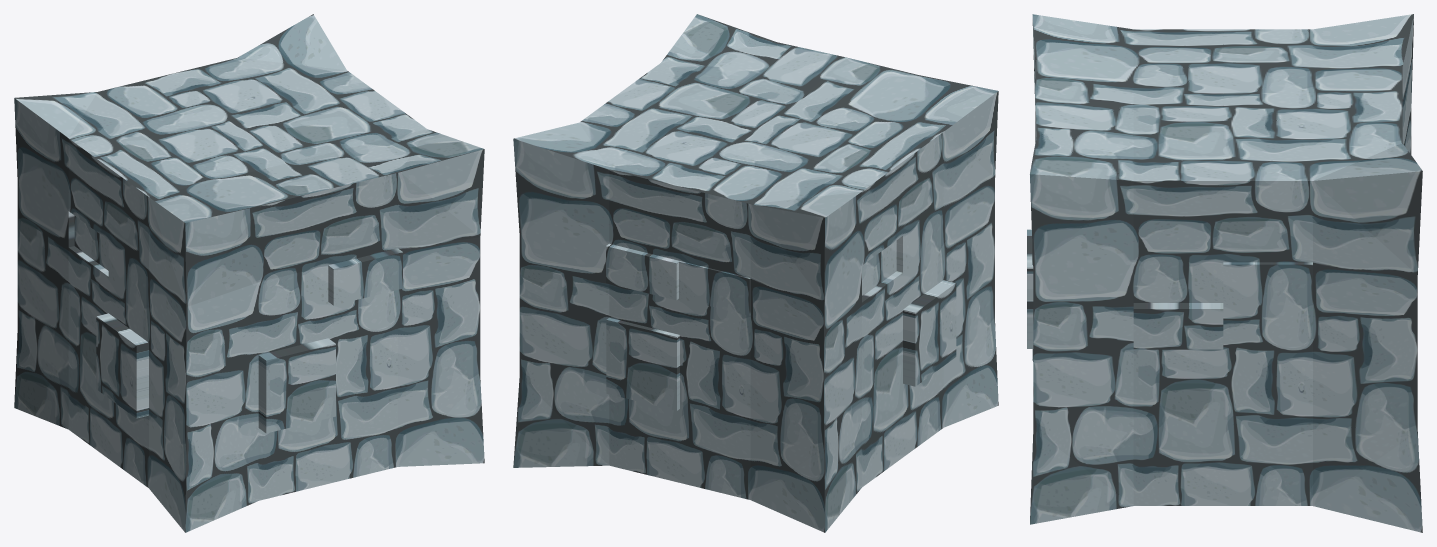
File: Wall.dae
The picture shows the model from 3 angles, left to right: view 1: azimuth 30°, elevation 25°; view 2: azimuth 150°, elevation 25°; view 3: azimuth 270°, elevation 25°; orthographic projection. The views are drawn at different scales.
Parts seen in each view (by area): view 1: Cube; view 2: Cube; view 3: Cube.
Part boxes in pixels (x1,y1,x2,y2): Cube: [14, 14, 484, 532]; Cube: [513, 14, 998, 532]; Cube: [1027, 14, 1422, 532].
Size of the model in its own units: 2.2 by 2.21 by 2.23.
1 material, 1 textured.
